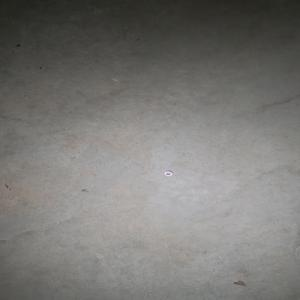Nut: (164, 169, 173, 175)
